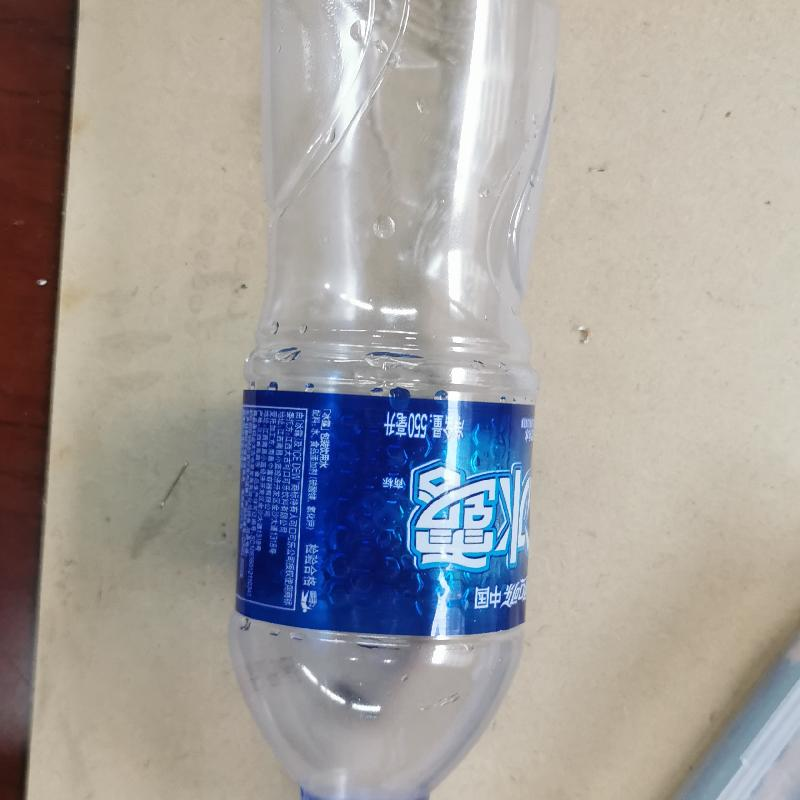bottles: (225, 0, 565, 799)
